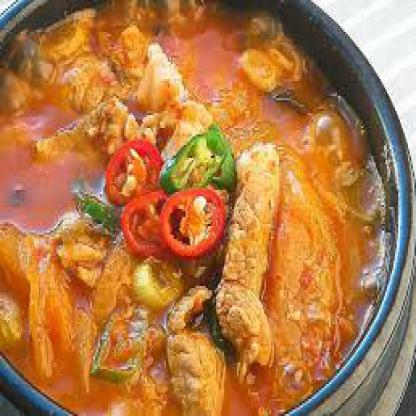Kimchi: (6, 0, 398, 414)
